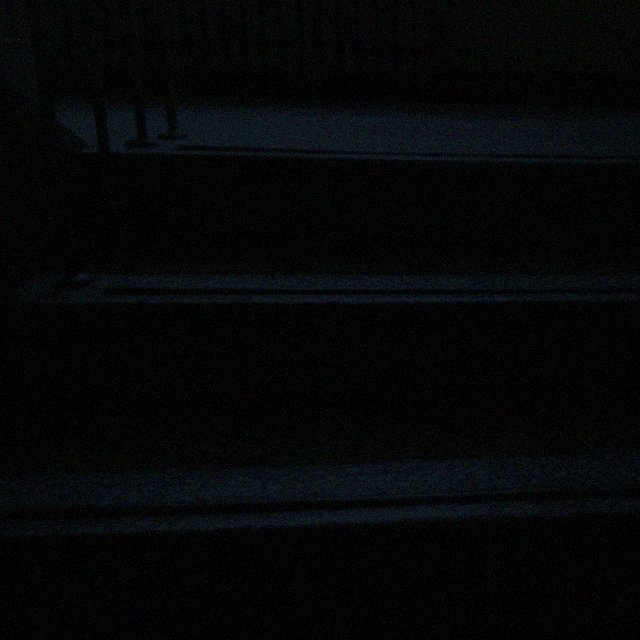stair: (0, 144, 639, 639)
